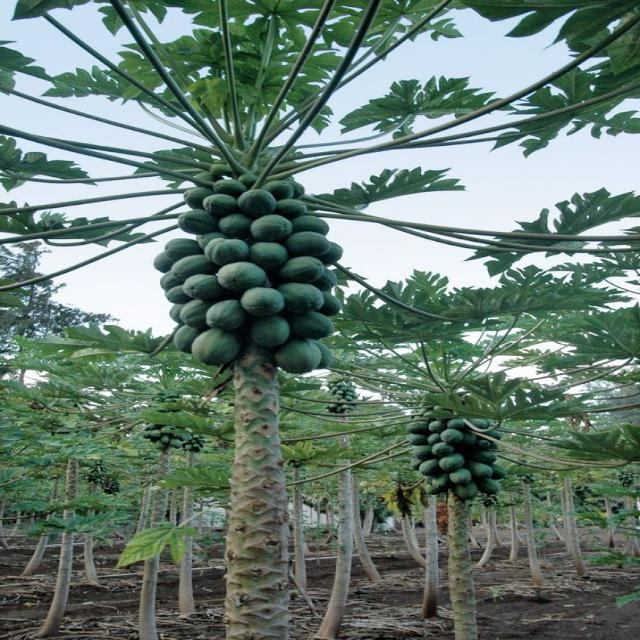Papaya-Tree: (0, 11, 463, 636), (364, 323, 570, 640)
